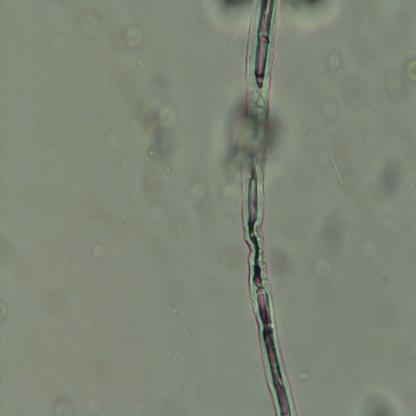Background material: (128, 90, 178, 190), (210, 89, 247, 217), (311, 209, 351, 284), (172, 171, 202, 245), (280, 0, 340, 36), (374, 154, 408, 204), (350, 384, 403, 416), (198, 1, 253, 26), (314, 87, 344, 125), (270, 241, 294, 285), (74, 10, 102, 40), (380, 68, 405, 97), (322, 49, 344, 73), (50, 395, 74, 415), (125, 23, 144, 48), (93, 240, 108, 260), (167, 347, 181, 368), (363, 132, 379, 150), (405, 57, 416, 83), (294, 370, 310, 383), (0, 300, 8, 323), (168, 306, 180, 318)
Cotton: (238, 0, 303, 416)
Glass filter fibre: (217, 20, 245, 68), (327, 150, 345, 190), (136, 56, 146, 70)
